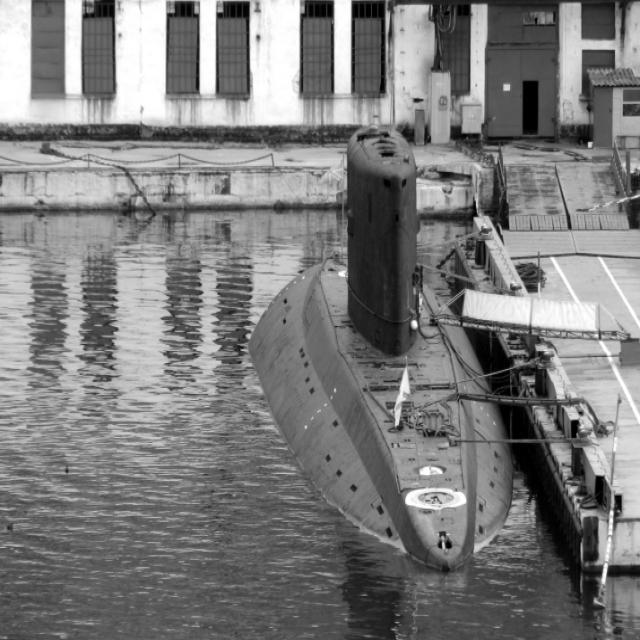submarine: (249, 127, 519, 571)
